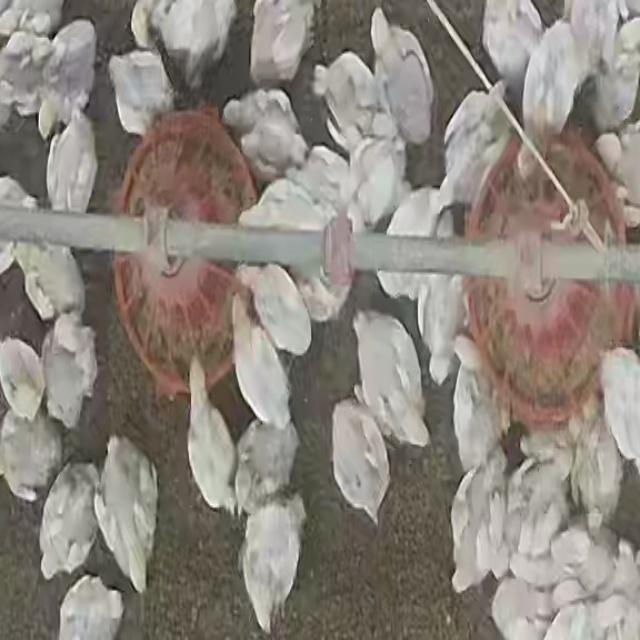chicken: (350, 310, 429, 453), (95, 434, 157, 594), (230, 286, 296, 428), (439, 84, 512, 210), (238, 497, 305, 632), (185, 357, 239, 515), (447, 453, 508, 592), (379, 187, 452, 296), (520, 20, 582, 148), (372, 8, 433, 138), (151, 1, 238, 90), (328, 401, 389, 526), (507, 448, 573, 562), (39, 457, 99, 581), (235, 416, 301, 518), (221, 87, 303, 169), (42, 18, 100, 132), (41, 314, 97, 432), (246, 260, 312, 359), (587, 14, 640, 136), (106, 48, 174, 140), (570, 414, 622, 531), (482, 1, 544, 97), (0, 406, 60, 504), (44, 110, 99, 216), (246, 0, 314, 84), (0, 26, 56, 126), (450, 361, 498, 476), (355, 125, 411, 222), (314, 52, 381, 133), (598, 342, 640, 470), (27, 242, 85, 325), (420, 276, 462, 386), (489, 575, 558, 640), (239, 182, 325, 232), (0, 336, 48, 424), (596, 127, 640, 222), (566, 0, 620, 77), (57, 575, 122, 637), (289, 147, 352, 209)
